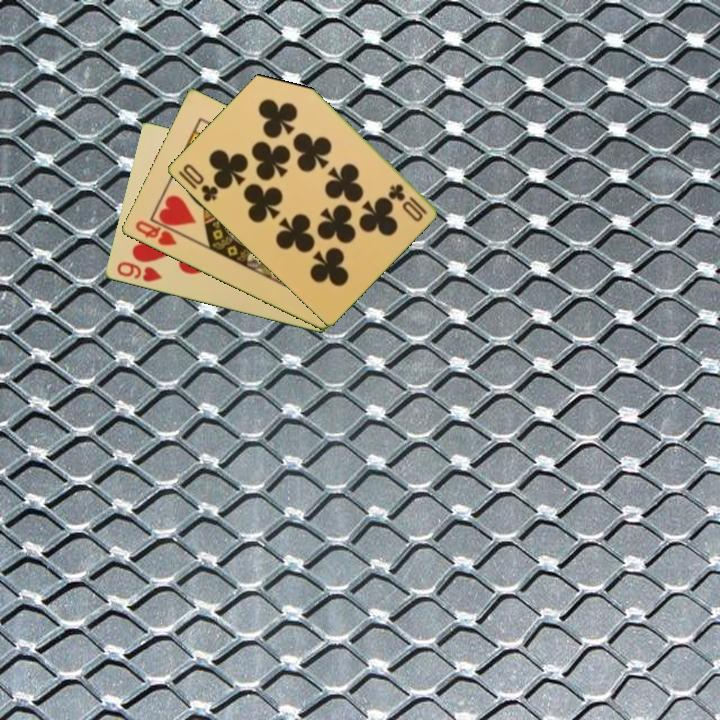10c: (179, 160, 221, 205), (385, 180, 430, 218)
9h: (113, 258, 164, 285)
Qh: (131, 217, 180, 249)
